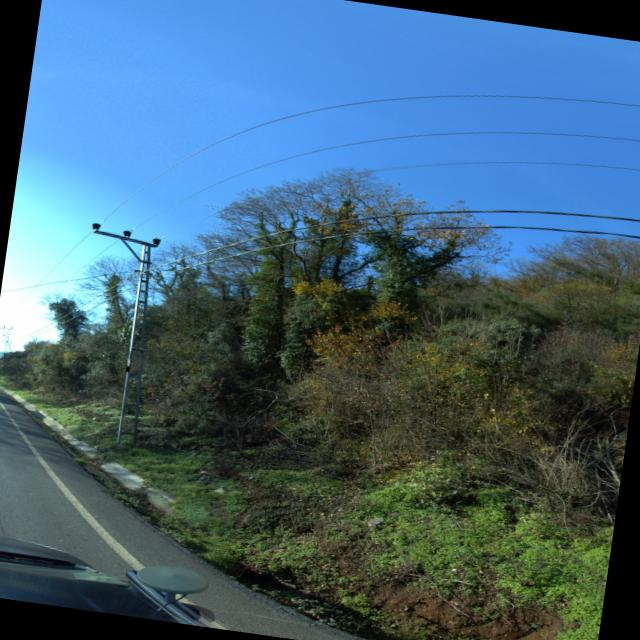Utility Pole Information Plate: (126, 366, 130, 372)
